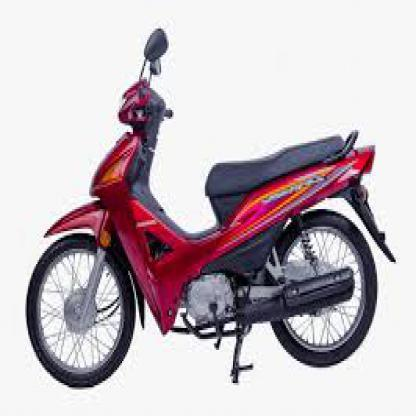Motorcycle: (15, 22, 393, 394)
